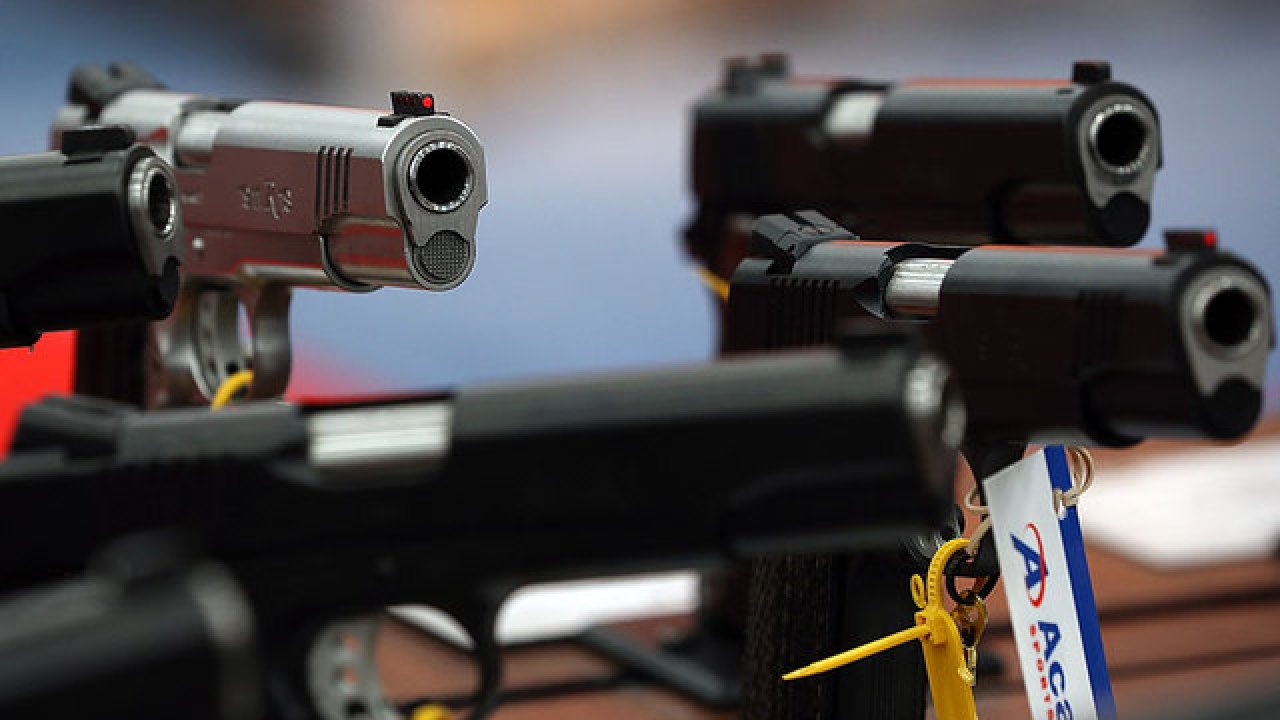Gun: (735, 198, 1262, 462), (52, 54, 481, 304), (645, 31, 1170, 228)
